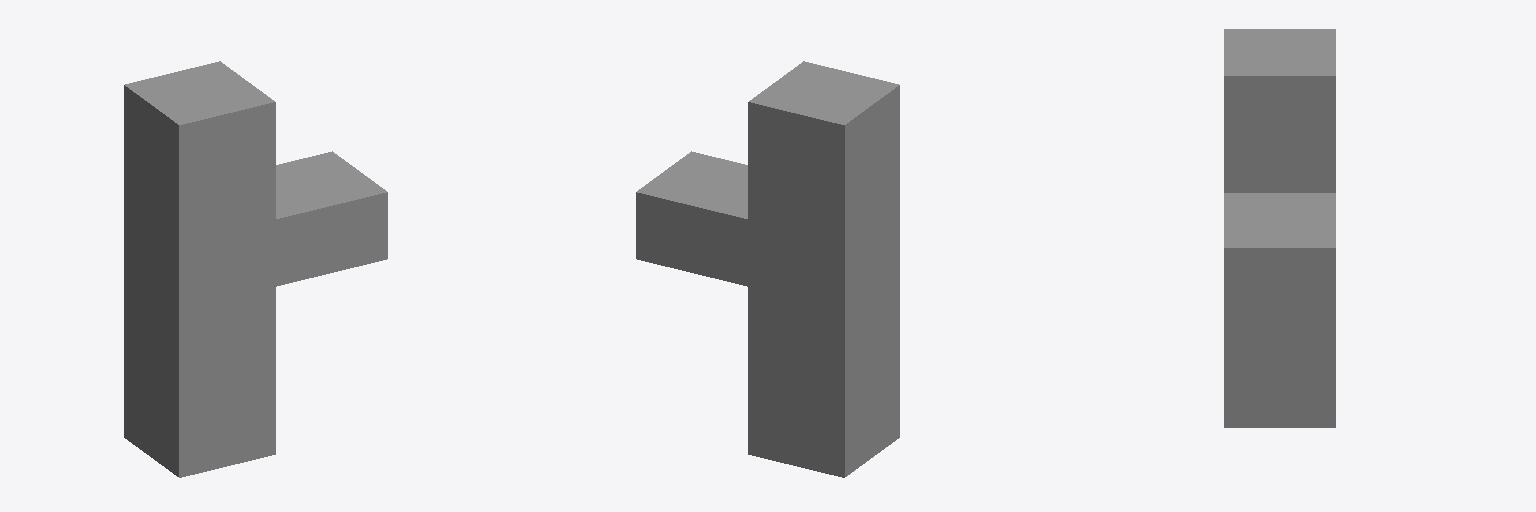
File: cactus1.obj
The picture shows the model from 3 angles: view 1: azimuth 30°, elevation 25°; view 2: azimuth 150°, elevation 25°; view 3: azimuth 270°, elevation 25°; orthographic projection.
Visible parts, largest first — view 1: Cube; view 2: Cube; view 3: Cube.
Part boxes in pixels (left/top/right/bottom): Cube: left=124, top=61, right=387, bottom=477; Cube: left=636, top=61, right=899, bottom=477; Cube: left=1224, top=29, right=1335, bottom=427.
Size of the model in its own units: 1.3 by 2.1 by 0.6.